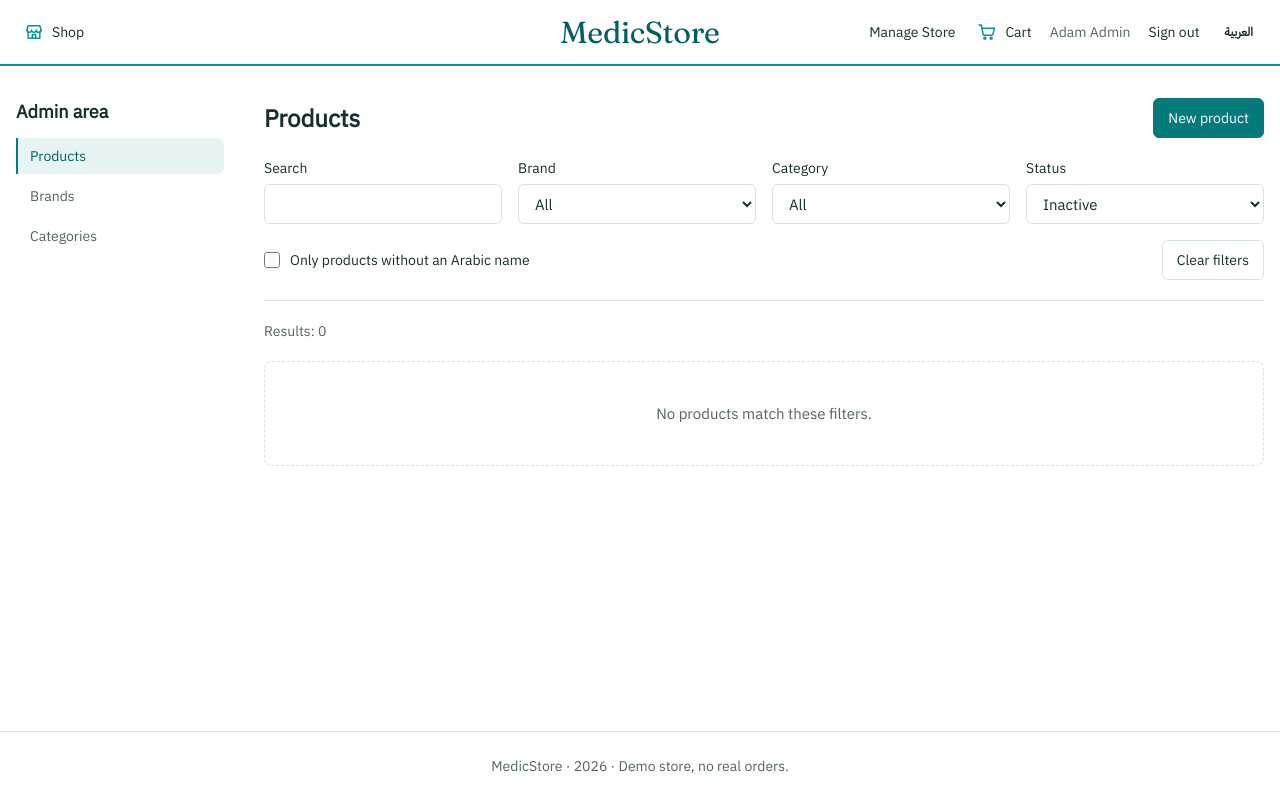
Test case: an active filter with no matches says so and offers to clear the filters
Expected: the text "No products match these filters." is shown, [264,361,1264,466]
What coordinates should you click on to do the following:
click the button "Clear filters"
I would click on:
 (1213, 260)
Its box is [1162,240,1264,280].
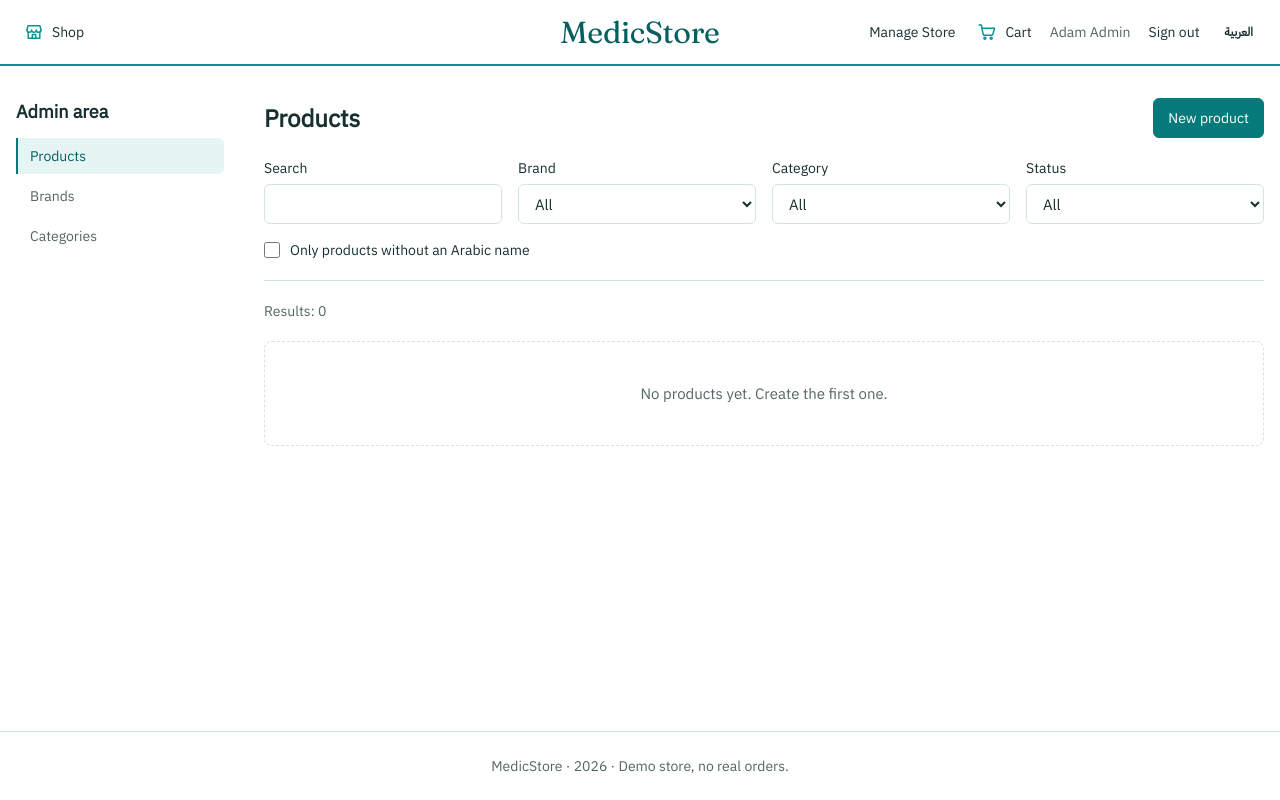
Now the text "No products yet. Create the first one." is shown, box [264,341,1264,446]
